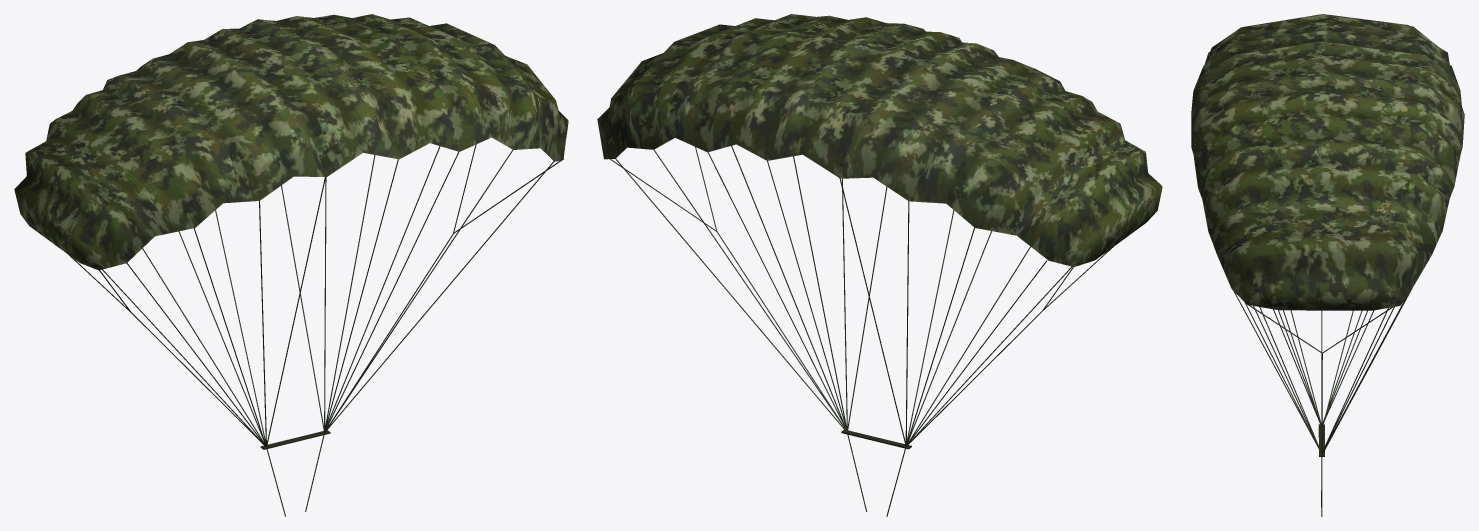
File: parachute_simple.glb
The picture shows the model from 3 angles, left to right: view 1: azimuth 30°, elevation 25°; view 2: azimuth 150°, elevation 25°; view 3: azimuth 270°, elevation 25°; orthographic projection. The views are drawn at different scales.
Parts seen in each view (by area): view 1: Parachute_Vehicle_AirDrop; view 2: Parachute_Vehicle_AirDrop; view 3: Parachute_Vehicle_AirDrop.
Part boxes in pixels (x1,y1,x2,y2): Parachute_Vehicle_AirDrop: (14, 14, 568, 516); Parachute_Vehicle_AirDrop: (597, 14, 1162, 516); Parachute_Vehicle_AirDrop: (1191, 14, 1464, 516).
Bounding box in the file's own units: 7.14 × 6.36 × 3.54.
1 material, 1 textured.
